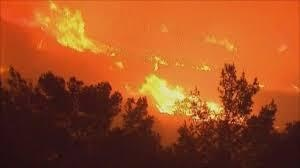fire: (118, 60, 229, 123), (33, 2, 117, 60)
